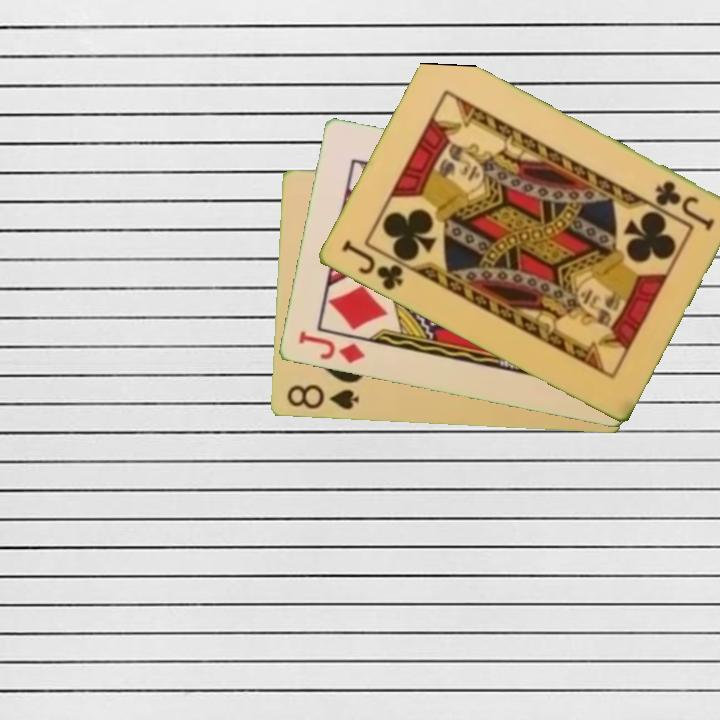8s: (283, 381, 362, 413)
Jc: (337, 236, 406, 294), (650, 177, 717, 233)
Jd: (294, 327, 368, 367)
